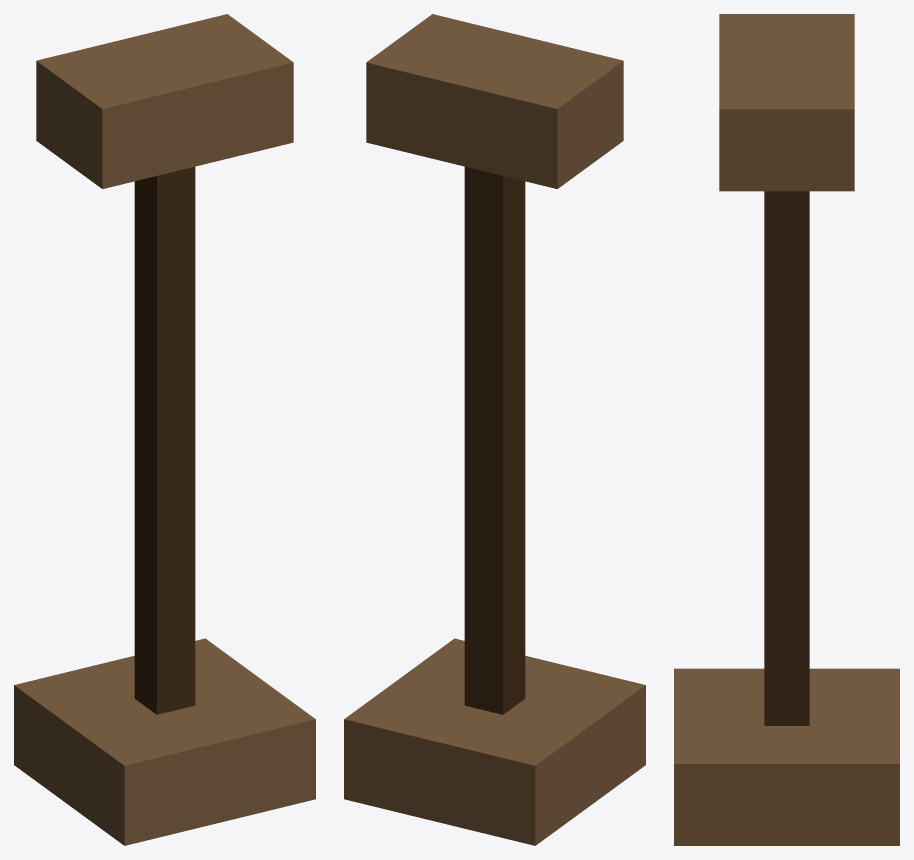
File: Brown Fence.dae
The picture shows the model from 3 angles, left to right: view 1: azimuth 30°, elevation 25°; view 2: azimuth 150°, elevation 25°; view 3: azimuth 270°, elevation 25°; orthographic projection. The views are drawn at different scales.
Parts seen in each view (by area): view 1: Bottom_Part, Middle_Part, Top_Part; view 2: Bottom_Part, Middle_Part, Top_Part; view 3: Bottom_Part, Middle_Part, Top_Part.
Part boxes in pixels (x1,y1,x2,y2): Bottom_Part: (14,638,315,845); Middle_Part: (134,166,195,714); Top_Part: (36,14,293,188); Bottom_Part: (344,638,645,845); Middle_Part: (464,166,525,714); Top_Part: (366,14,623,188); Bottom_Part: (674,668,899,845); Middle_Part: (764,191,809,725); Top_Part: (719,14,854,191).
Bounding box in the file's own units: 0.5 × 0.5 × 1.8.
